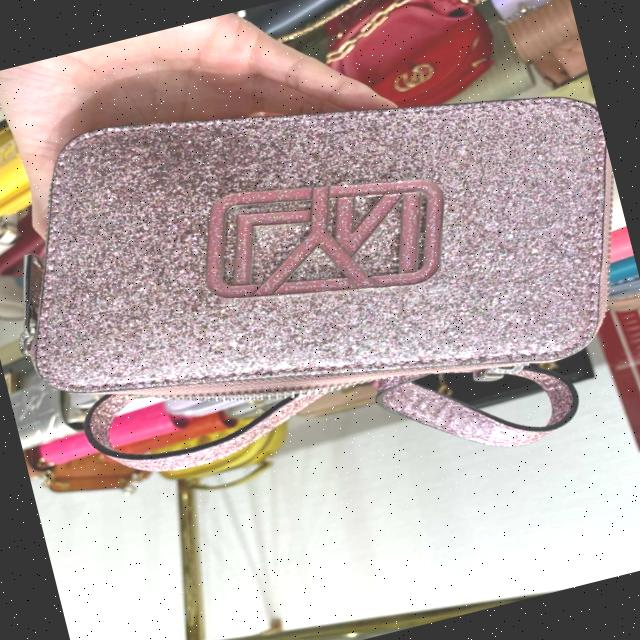Handbag: (0, 0, 640, 560)
